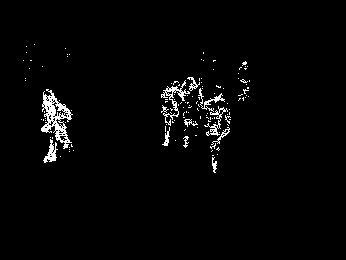person: (39, 88, 73, 164), (205, 90, 232, 172), (182, 75, 205, 153), (161, 79, 182, 149)
